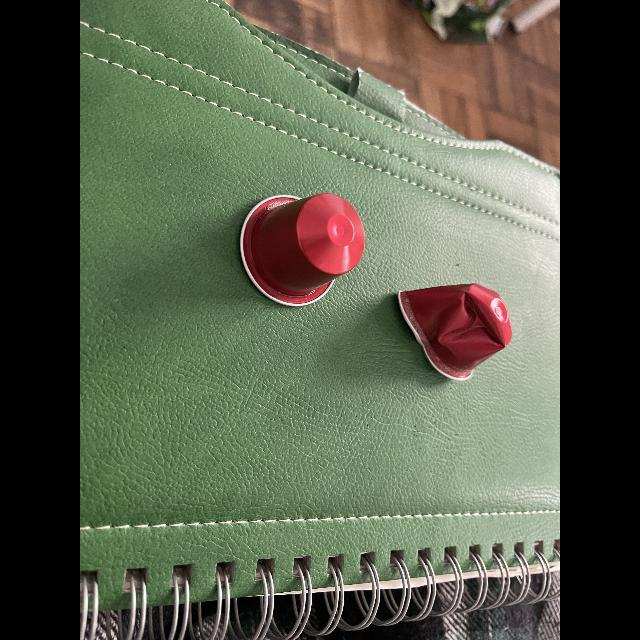damaged_capsule: (392, 278, 518, 390)
intact_capsule: (234, 186, 378, 318)
